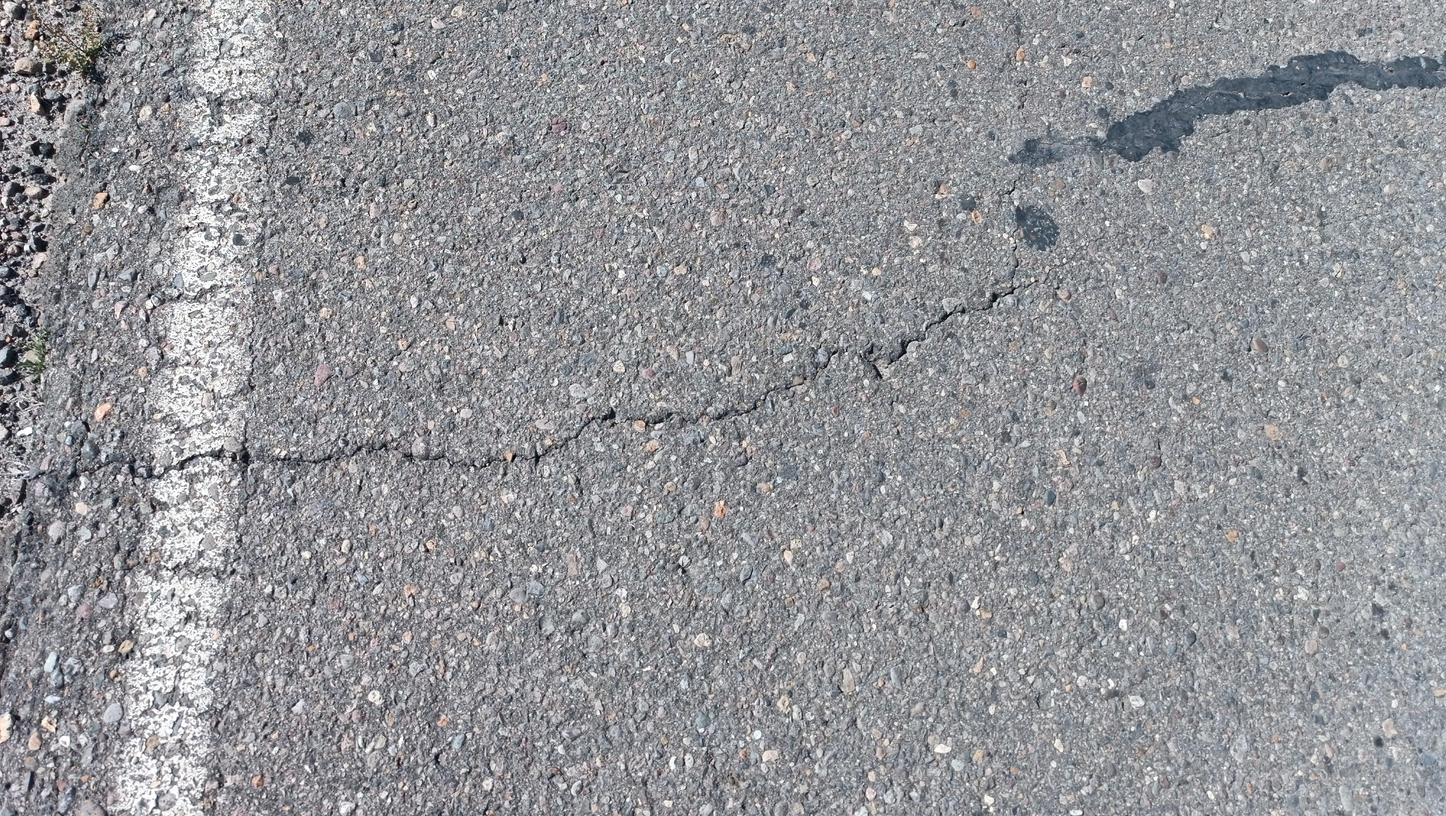GRIETA: (0, 280, 1041, 522)
